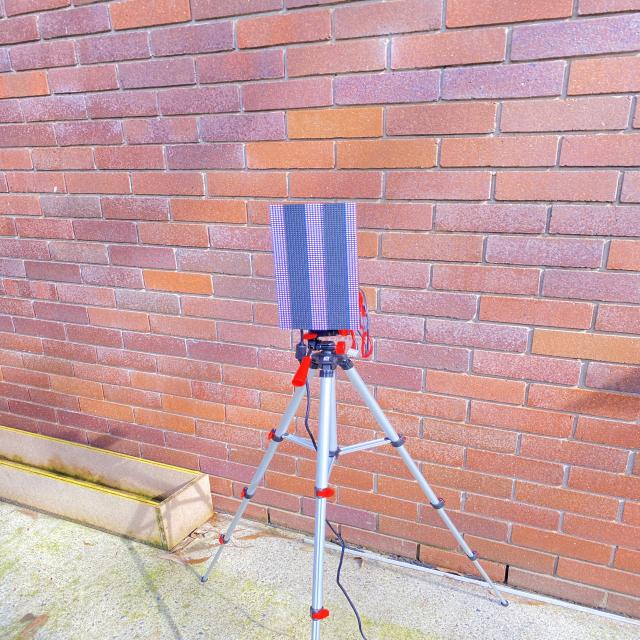matrix: (268, 204, 364, 332)
